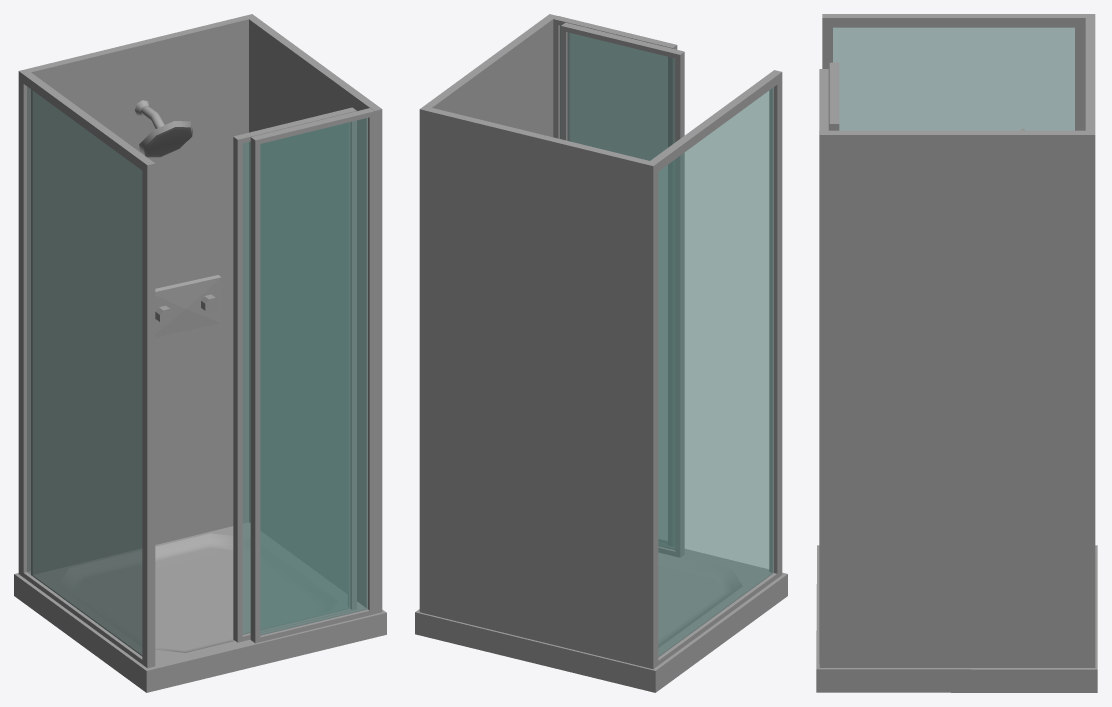
File: SM_props_bathroom_shower.fbx
3 views of the same model, side by side, from view 1: azimuth 30°, elevation 25°; view 2: azimuth 150°, elevation 25°; view 3: azimuth 270°, elevation 25° (orthographic). The views are drawn at different scales.
Visible parts, largest first — view 1: SM_props_bathroom_shower, SM_props_bathroom_shower_door; view 2: SM_props_bathroom_shower, SM_props_bathroom_shower_door; view 3: SM_props_bathroom_shower, SM_props_bathroom_shower_door.
Boxes of the visible parts, box(x1,y1,x2,y2) form: SM_props_bathroom_shower: box(14, 14, 386, 692); SM_props_bathroom_shower_door: box(233, 107, 356, 642); SM_props_bathroom_shower: box(415, 14, 787, 692); SM_props_bathroom_shower_door: box(561, 22, 684, 557); SM_props_bathroom_shower: box(816, 14, 1097, 692); SM_props_bathroom_shower_door: box(829, 62, 839, 130).
Size of the model in its own units: 110 by 230 by 106.
